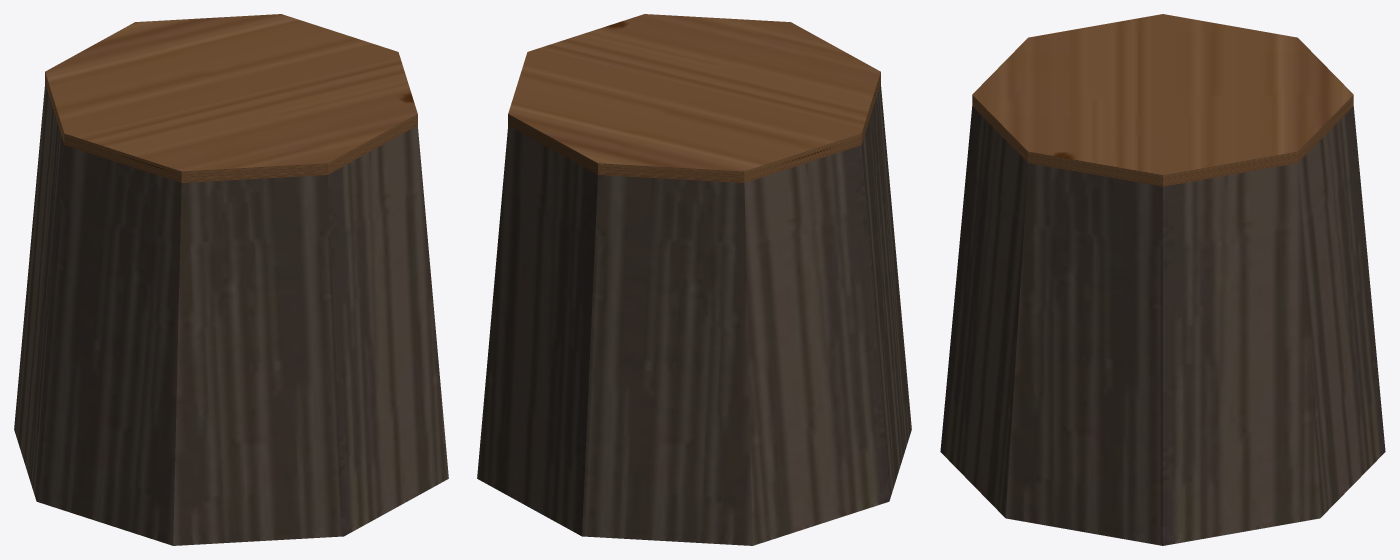
File: tree_stump.glb
The picture shows the model from 3 angles, left to right: view 1: azimuth 30°, elevation 25°; view 2: azimuth 150°, elevation 25°; view 3: azimuth 270°, elevation 25°; orthographic projection.
Parts seen in each view (by area): view 1: Tree_Stump; view 2: Tree_Stump; view 3: Tree_Stump.
Boxes of the visible parts, left/top/right/bottom form: Tree_Stump: left=14, top=14, right=448, bottom=545; Tree_Stump: left=477, top=14, right=911, bottom=545; Tree_Stump: left=940, top=14, right=1385, bottom=545.
Size of the model in its own units: 0.7 by 0.62 by 0.7.
2 materials, 2 textured.
